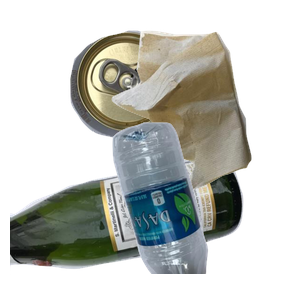glass: (10, 154, 246, 300)
metal: (68, 28, 237, 159)
plastic: (110, 120, 300, 300)
trash: (109, 28, 300, 208)
